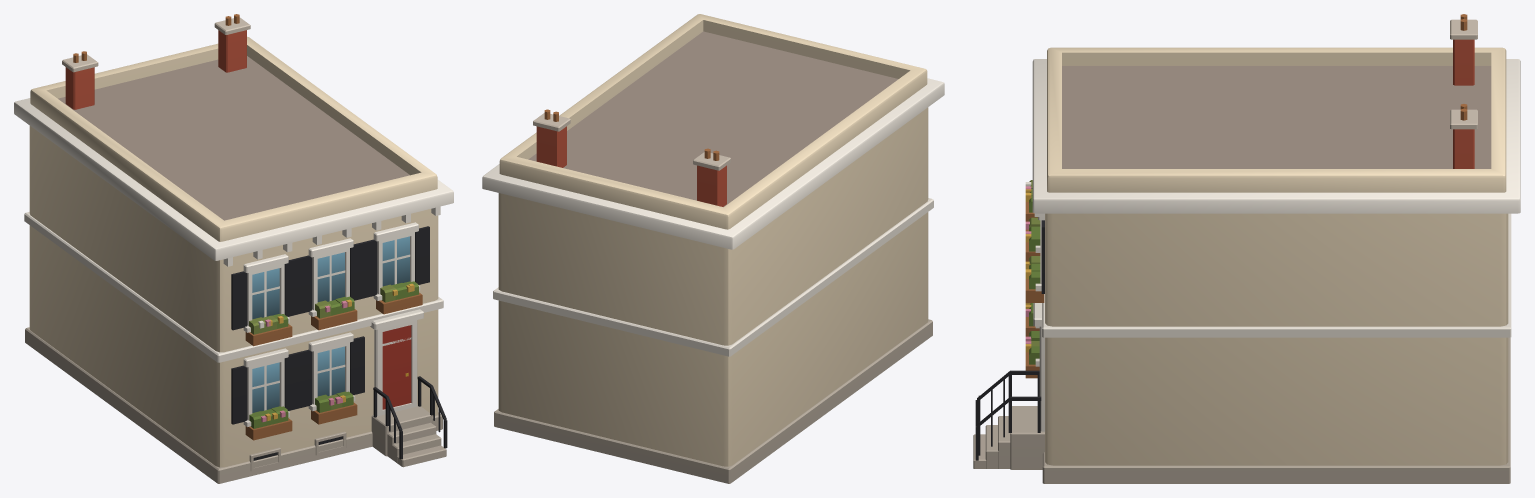
File: beacon_n11.glb
The picture shows the model from 3 angles, left to right: view 1: azimuth 30°, elevation 25°; view 2: azimuth 150°, elevation 25°; view 3: azimuth 270°, elevation 25°; orthographic projection. The views are drawn at different scales.
Visible parts, largest first — view 1: beacon_n11; view 2: beacon_n11; view 3: beacon_n11.
Part boxes in pixels (left/top/right/bottom): beacon_n11: left=14, top=14, right=453, bottom=483; beacon_n11: left=482, top=14, right=944, bottom=483; beacon_n11: left=973, top=14, right=1520, bottom=483.
Size of the model in its own units: 8.64 by 10.14 by 14.18.
1 material, 1 textured.
